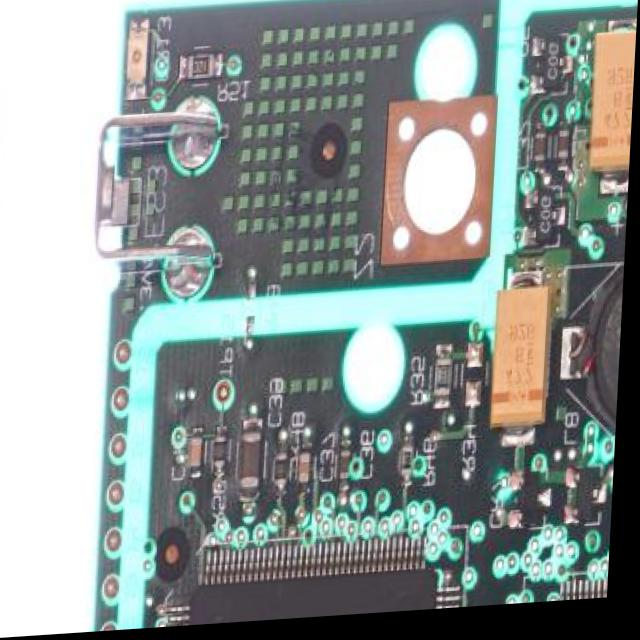IC: (193, 568, 450, 628)
capacitor: (493, 291, 556, 441), (590, 33, 637, 183), (243, 431, 269, 496), (193, 437, 209, 474), (301, 456, 317, 491), (558, 135, 573, 170), (534, 138, 549, 173), (342, 453, 356, 487)
diode: (124, 28, 151, 93), (524, 477, 550, 535)
resistor: (187, 56, 215, 86), (437, 363, 457, 405), (279, 457, 294, 493), (216, 437, 231, 472), (405, 450, 420, 484)
transistor: (535, 194, 562, 255), (541, 42, 568, 103), (579, 474, 605, 532)
